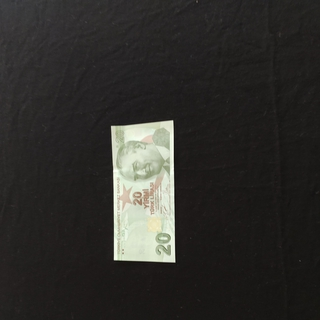20TLFront: (110, 120, 176, 263)
